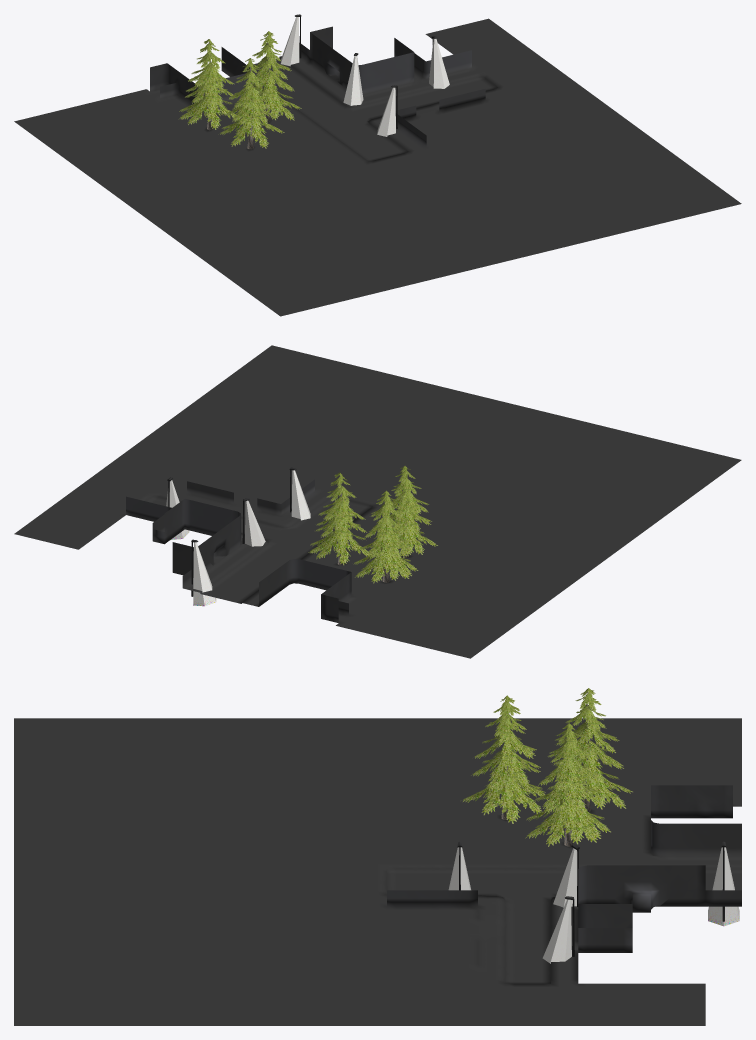
The model's file is Village.fbx.
The picture shows the model from 3 angles, top to bottom: view 1: azimuth 30°, elevation 25°; view 2: azimuth 150°, elevation 25°; view 3: azimuth 270°, elevation 25°; orthographic projection. The views are drawn at different scales.
Parts seen in each view (by area): view 1: Terrain, Tree.002, Tree.001, Tree, Streetlamp, Streetlamp.003, Streetlamp.001, Streetlamp.002; view 2: Terrain, Tree.002, Tree, Tree.001, Streetlamp.001, Streetlamp.002, Streetlamp; view 3: Terrain, Tree, Tree.001, Tree.002, Streetlamp.003, Streetlamp.001, Streetlamp.002, Streetlamp.
Boxes of the visible parts, left/top/right/bottom form: Terrain: left=14, top=18, right=741, bottom=316; Tree.002: left=178, top=39, right=240, bottom=130; Tree.001: left=218, top=58, right=284, bottom=149; Tree: left=243, top=31, right=301, bottom=122; Streetlamp: left=377, top=85, right=397, bottom=136; Streetlamp.003: left=429, top=35, right=449, bottom=88; Streetlamp.001: left=280, top=14, right=301, bottom=66; Streetlamp.002: left=343, top=53, right=363, bottom=105; Terrain: left=14, top=345, right=741, bottom=658; Tree.002: left=353, top=490, right=418, bottom=583; Tree: left=308, top=472, right=370, bottom=565; Tree.001: left=383, top=466, right=437, bottom=558; Streetlamp.001: left=191, top=539, right=216, bottom=606; Streetlamp.002: left=242, top=498, right=265, bottom=546; Streetlamp: left=289, top=467, right=310, bottom=520; Terrain: left=14, top=718, right=741, bottom=1025; Tree: left=525, top=723, right=610, bottom=846; Tree.001: left=463, top=695, right=547, bottom=823; Tree.002: left=547, top=688, right=632, bottom=812; Streetlamp.003: left=542, top=896, right=574, bottom=963; Streetlamp.001: left=708, top=841, right=739, bottom=926; Streetlamp.002: left=553, top=844, right=579, bottom=907; Streetlamp: left=448, top=841, right=470, bottom=890.
Size of what is drawn, in the model's own units: 8000 by 1759 by 8000.
